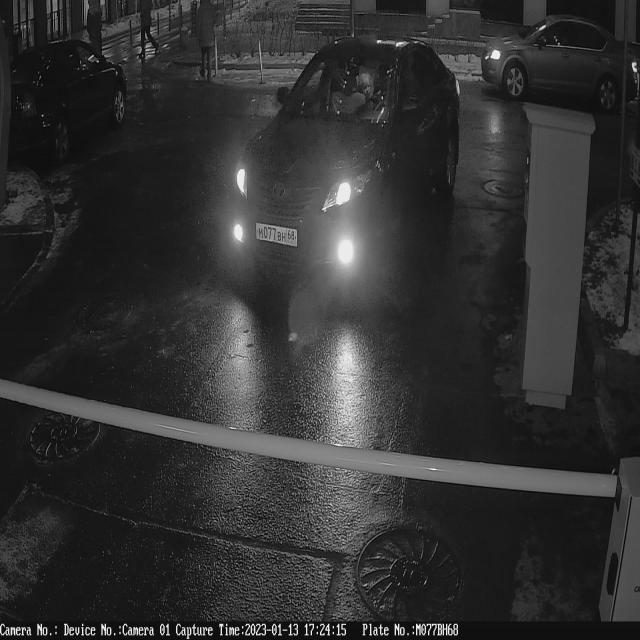car-plate-numbers: (256, 220, 302, 250)
